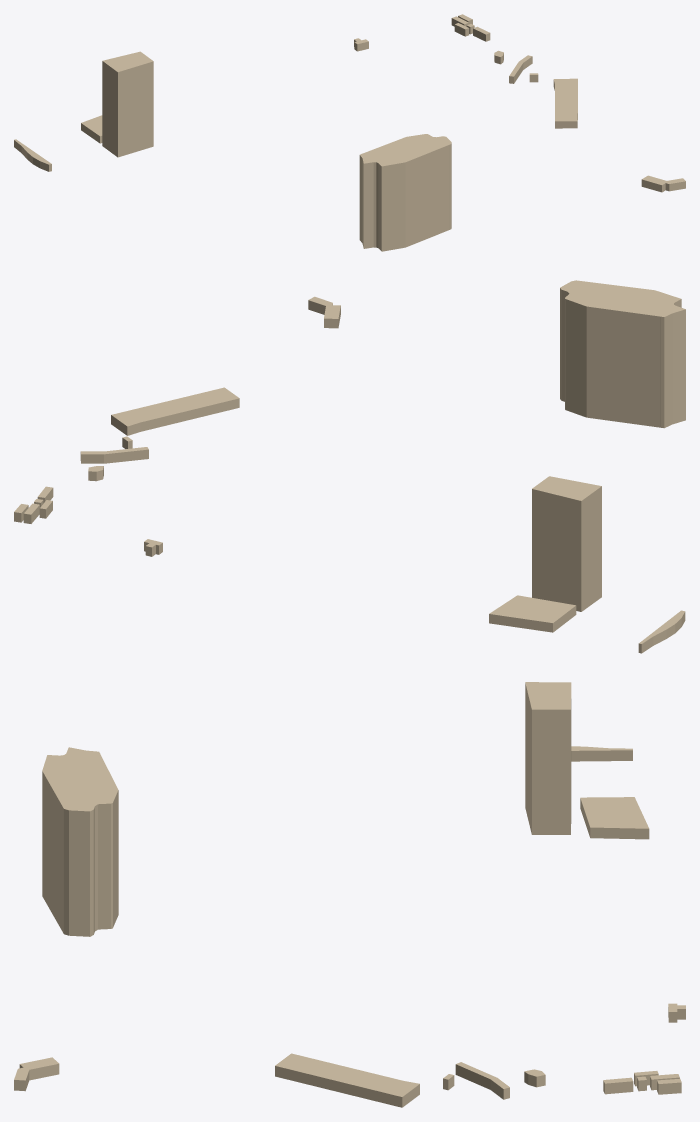
File: -3_7-estimated-coarse.glb
3 views of the same model, one above another, from view 1: azimuth 30°, elevation 25°; view 2: azimuth 150°, elevation 25°; view 3: azimuth 270°, elevation 25° (orthographic). The views are drawn at different scales.
Size of the model in its own units: 846 by 141 by 685.
